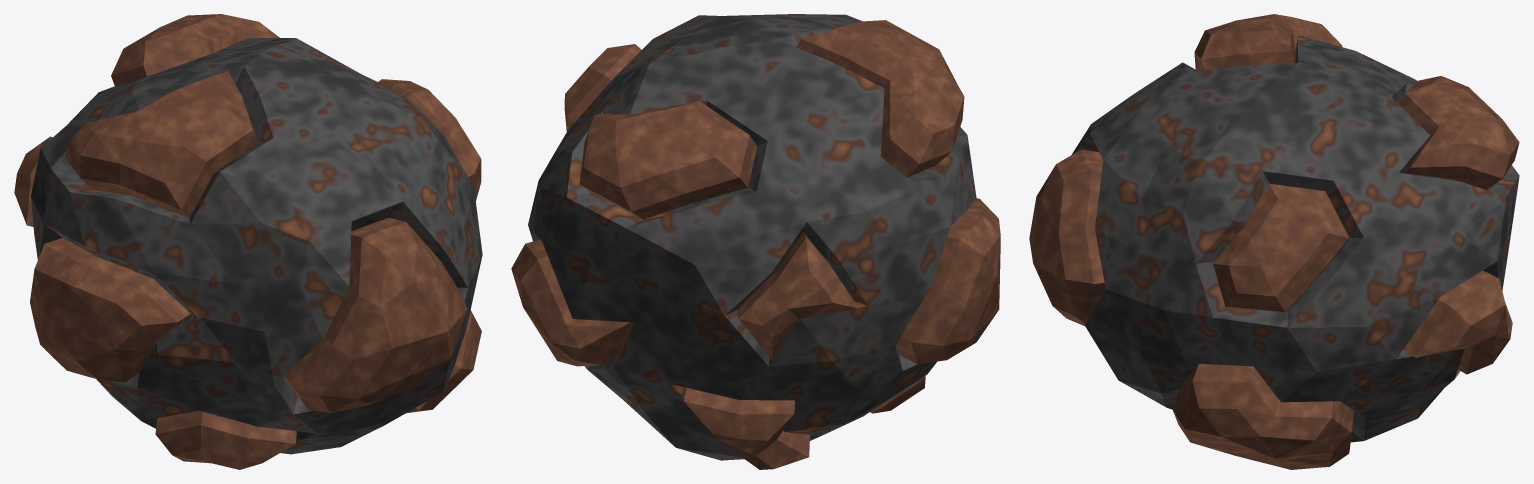
The model's file is Iron_Ore.fbx.
3 views of the same model, side by side, from view 1: azimuth 30°, elevation 25°; view 2: azimuth 150°, elevation 25°; view 3: azimuth 270°, elevation 25° (orthographic). The views are drawn at different scales.
Parts seen in each view (by area): view 1: SM_Iron_Ore; view 2: SM_Iron_Ore; view 3: SM_Iron_Ore.
Part boxes in pixels (<box>): SM_Iron_Ore: <box>14,14,482,469</box>; SM_Iron_Ore: <box>511,14,1000,469</box>; SM_Iron_Ore: <box>1029,14,1519,469</box>.
Size of the model in its own units: 42.25 by 38.05 by 44.78.
Materials: 2 (2 with a texture image).
